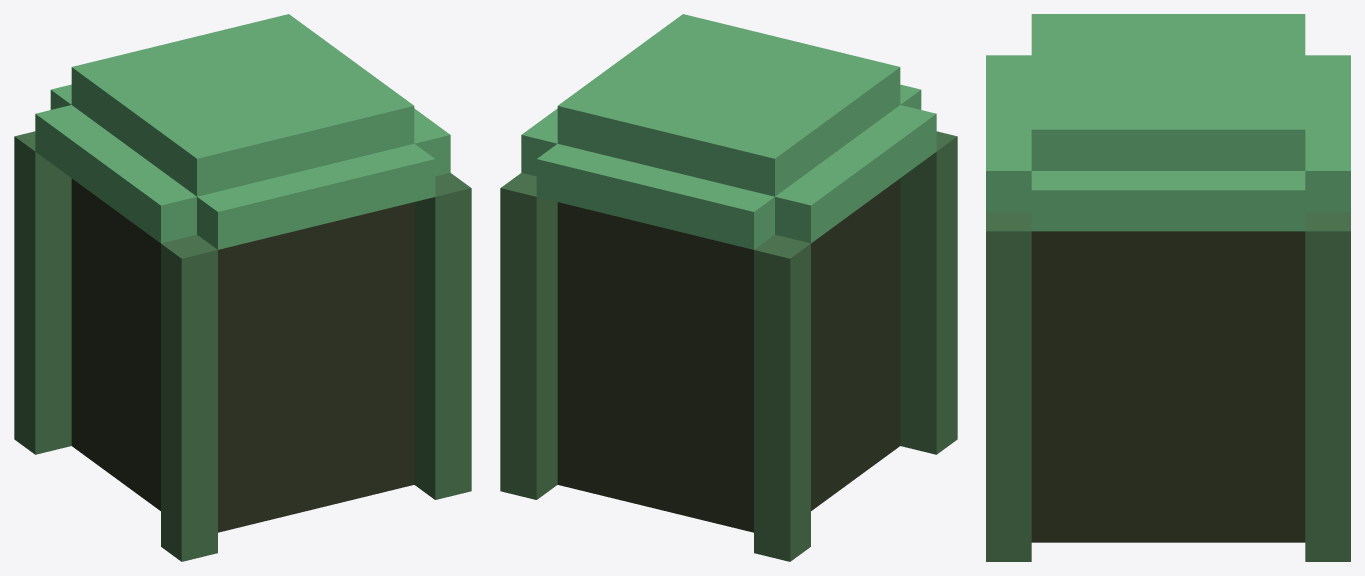
File: NewDoor2.obj
3 renders of one model, left to right at view 1: azimuth 30°, elevation 25°; view 2: azimuth 150°, elevation 25°; view 3: azimuth 270°, elevation 25°, orthographic. The views are drawn at different scales.
Size of the model in its own units: 8 by 10 by 8.
1 material, 1 textured.
